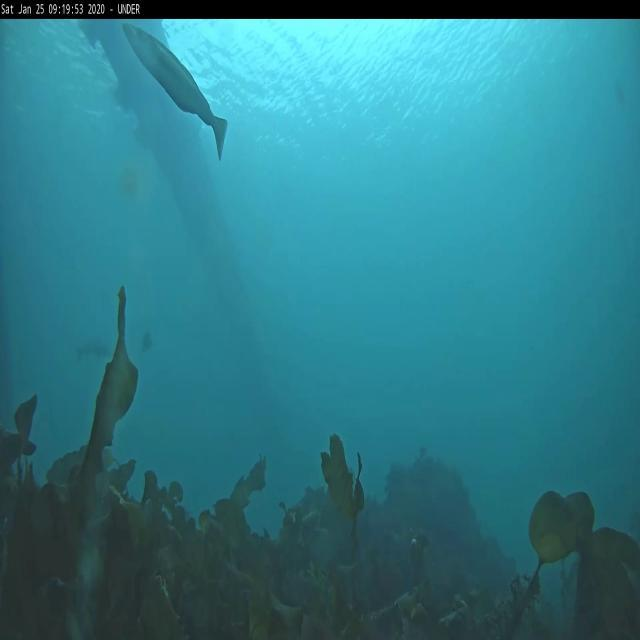fish: (120, 20, 228, 160), (77, 342, 110, 360), (140, 330, 156, 358)
